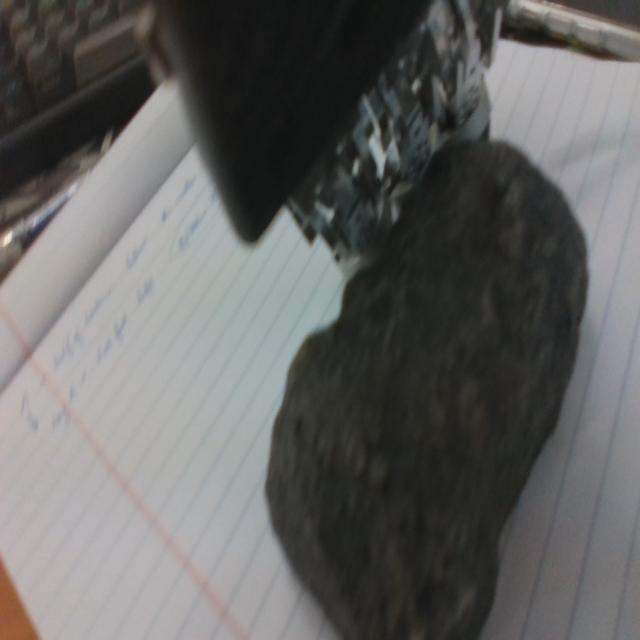stone: (266, 141, 588, 640)
